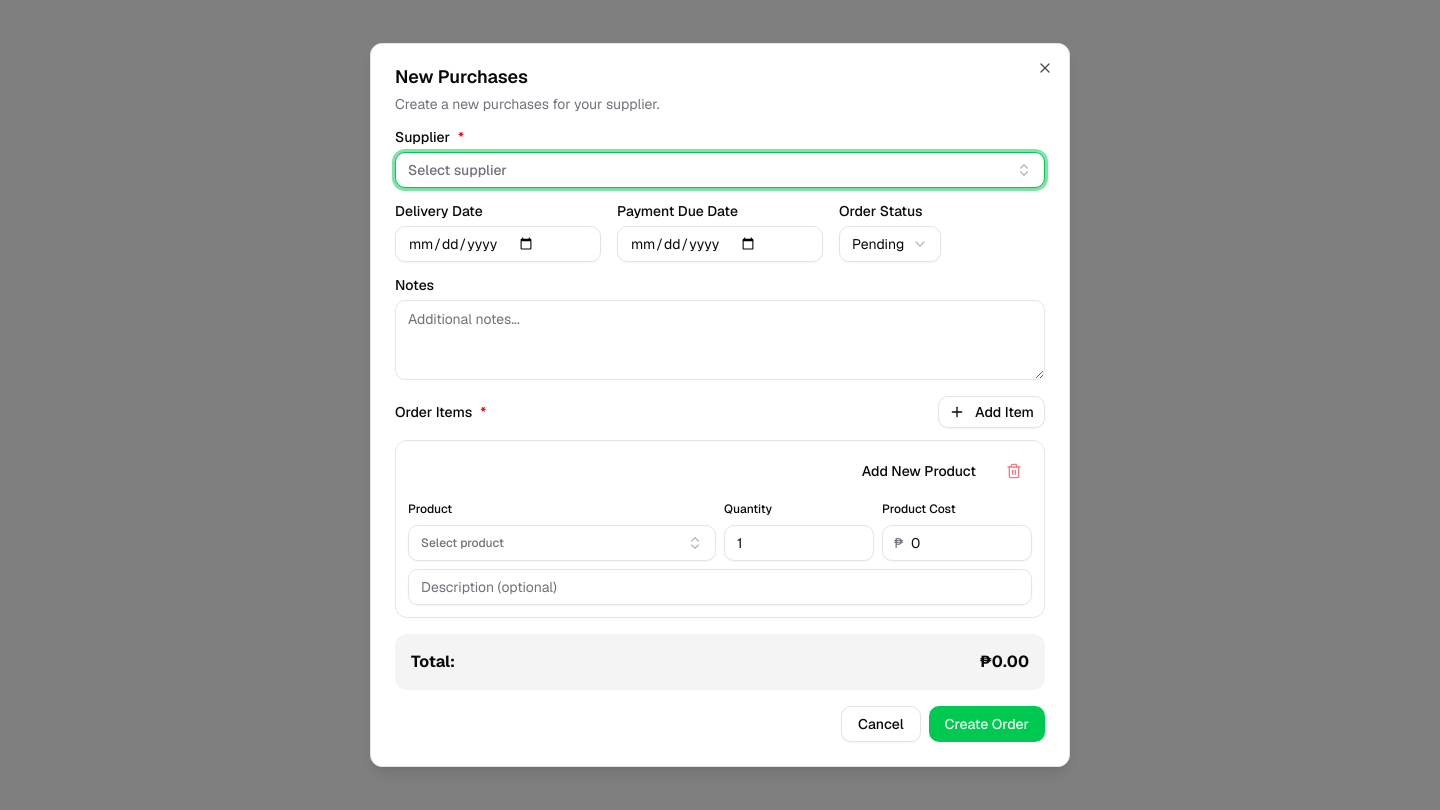
Test: PurchaseOrderFormModal › New Product Registration Feature › should toggle between existing product and new product mode
Expected: the heading "New Purchases" is shown, [395,65,528,88]
Click "Add New Product" button
Step 1. Click the button "Add New Product" → [919, 471], box [850,455,988,487]
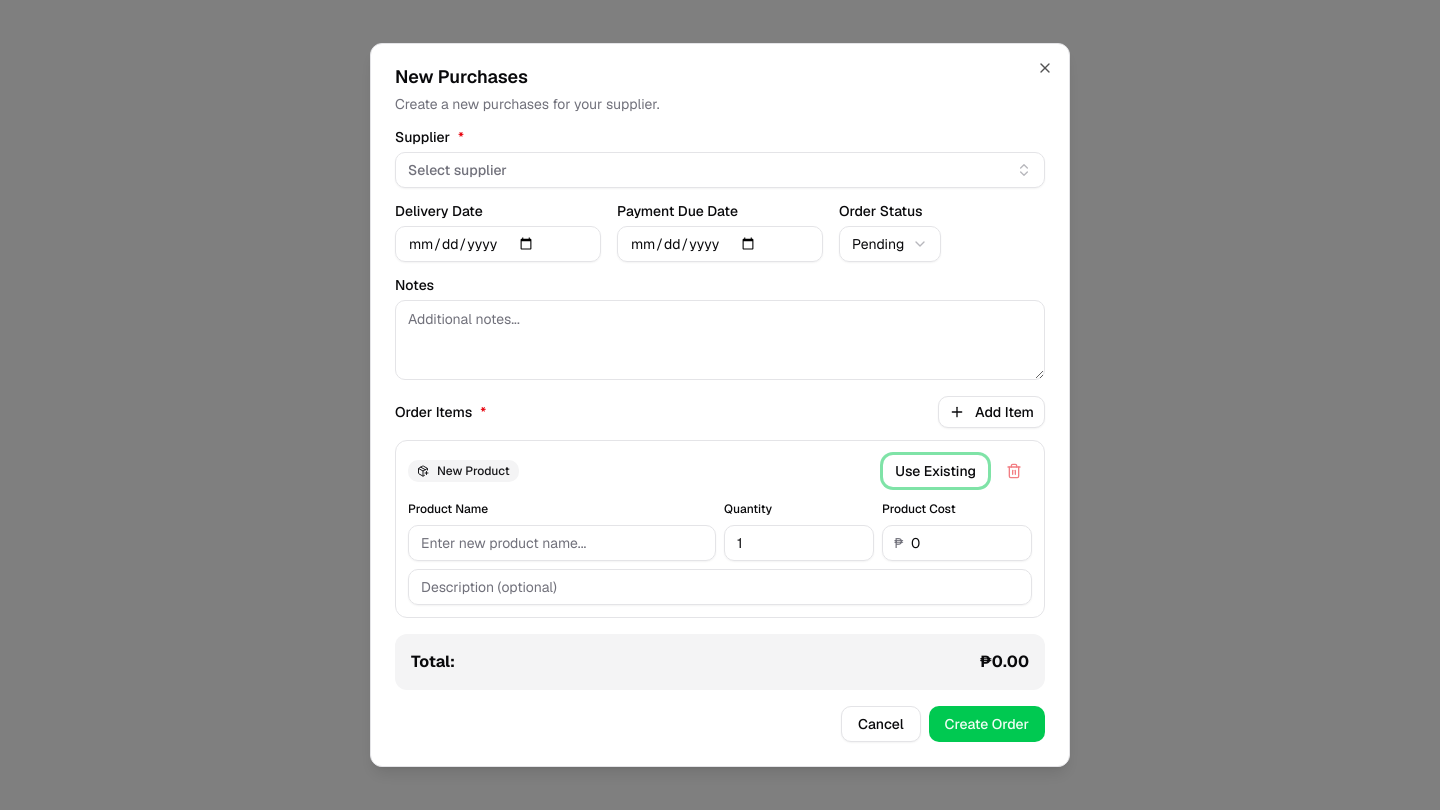
Expected: the text "New Product" is shown, [408,460,519,482]
Expected: the button "Use Existing" is shown, [883,455,988,487]
Expected: the field with placeholder "Enter new product name..." is shown, [408,525,716,561]
